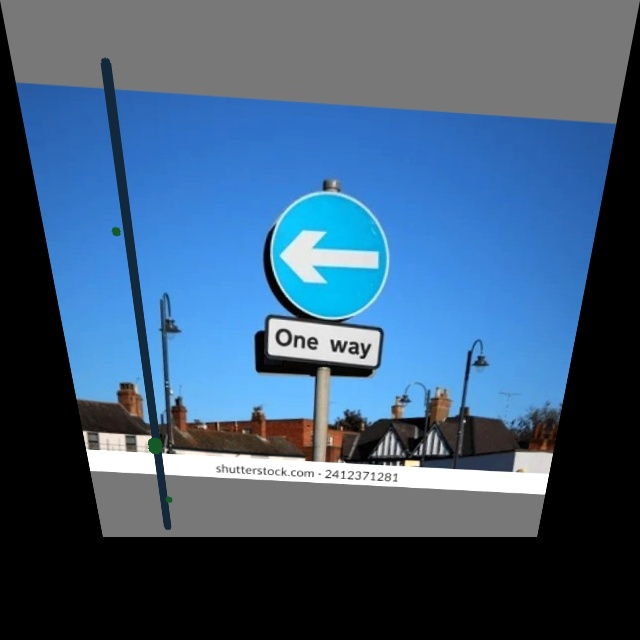Compulsory_Turn_Left: (254, 182, 398, 323)
